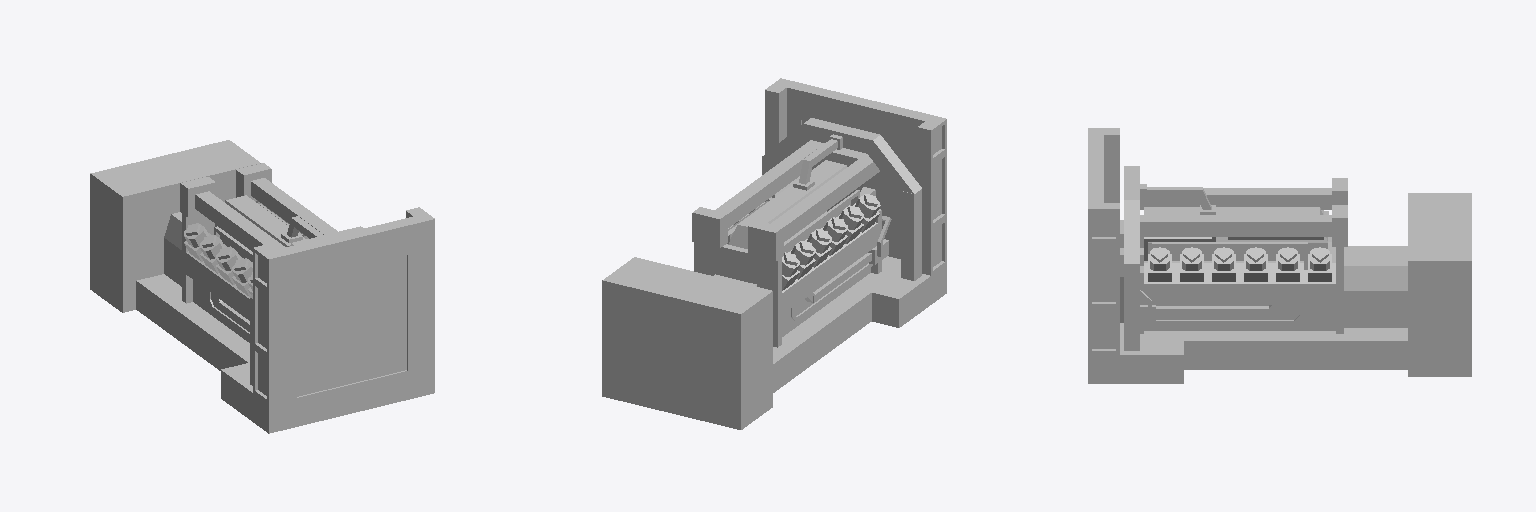
Rendered from liquid_generator_r.obj.
The picture shows the model from 3 angles: view 1: azimuth 30°, elevation 25°; view 2: azimuth 150°, elevation 25°; view 3: azimuth 270°, elevation 25°; orthographic projection.
Visible parts, largest first — view 1: liquid_generator_r; view 2: liquid_generator_r; view 3: liquid_generator_r.
Part boxes in pixels (bbox=[...]): liquid_generator_r: bbox=[90, 140, 434, 433]; liquid_generator_r: bbox=[602, 78, 946, 429]; liquid_generator_r: bbox=[1088, 128, 1471, 383].
Size of the model in its own units: 3 by 3 by 6.